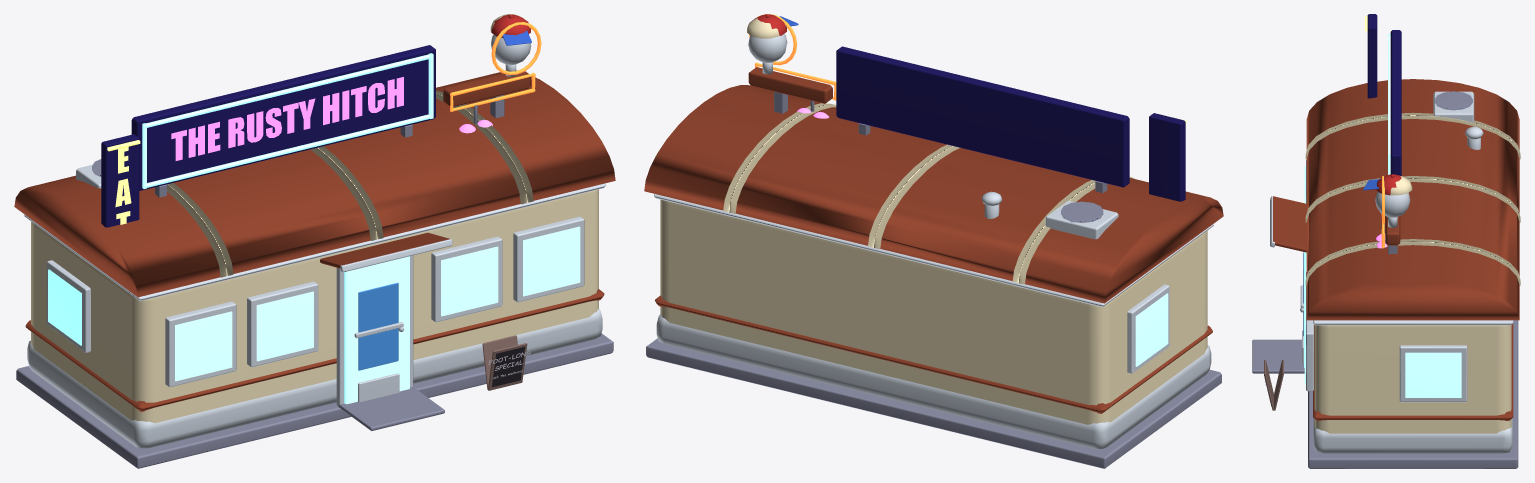
Rendered from rusty_hitch.glb.
3 views of the same model, side by side, from view 1: azimuth 30°, elevation 25°; view 2: azimuth 150°, elevation 25°; view 3: azimuth 270°, elevation 25° (orthographic). The views are drawn at different scales.
Parts seen in each view (by area): view 1: Body, Sign, Hitch, NeonFrame, Blade, SandwichBoard; view 2: Body, Sign, Hitch, Blade; view 3: Body, Hitch, Sign, Blade, SandwichBoard, NeonFrame.
Boxes of the visible parts, <box> form: Body: <box>14,72,615,468</box>; Sign: <box>131,45,435,197</box>; Hitch: <box>443,14,541,117</box>; NeonFrame: <box>142,53,433,188</box>; Blade: <box>101,134,140,227</box>; SandwichBoard: <box>482,335,530,390</box>; Body: <box>644,85,1223,468</box>; Sign: <box>836,46,1129,192</box>; Hitch: <box>747,14,836,113</box>; Blade: <box>1149,113,1186,201</box>; Body: <box>1252,79,1520,468</box>; Hitch: <box>1363,174,1412,254</box>; Sign: <box>1390,30,1401,175</box>; Blade: <box>1365,14,1377,98</box>; SandwichBoard: <box>1264,359,1283,410</box>; NeonFrame: <box>1388,34,1390,174</box>.
Size of the model in its own units: 7 by 4.43 by 3.96.
